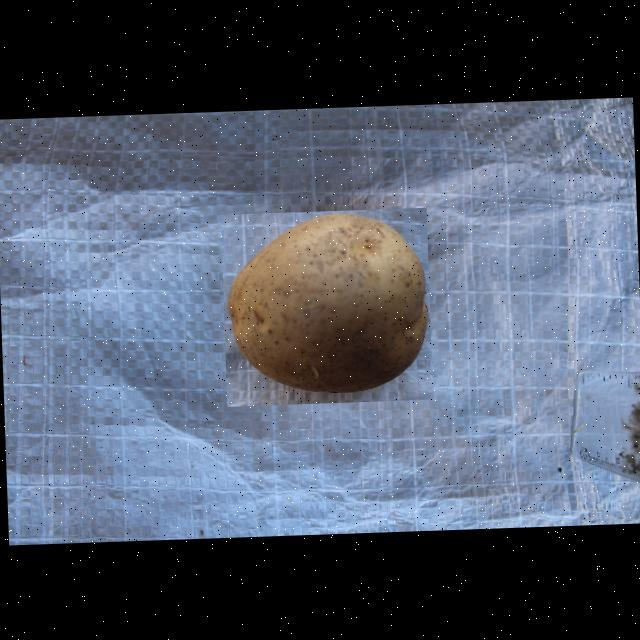Diseased-fungal potato: (219, 207, 432, 406)
